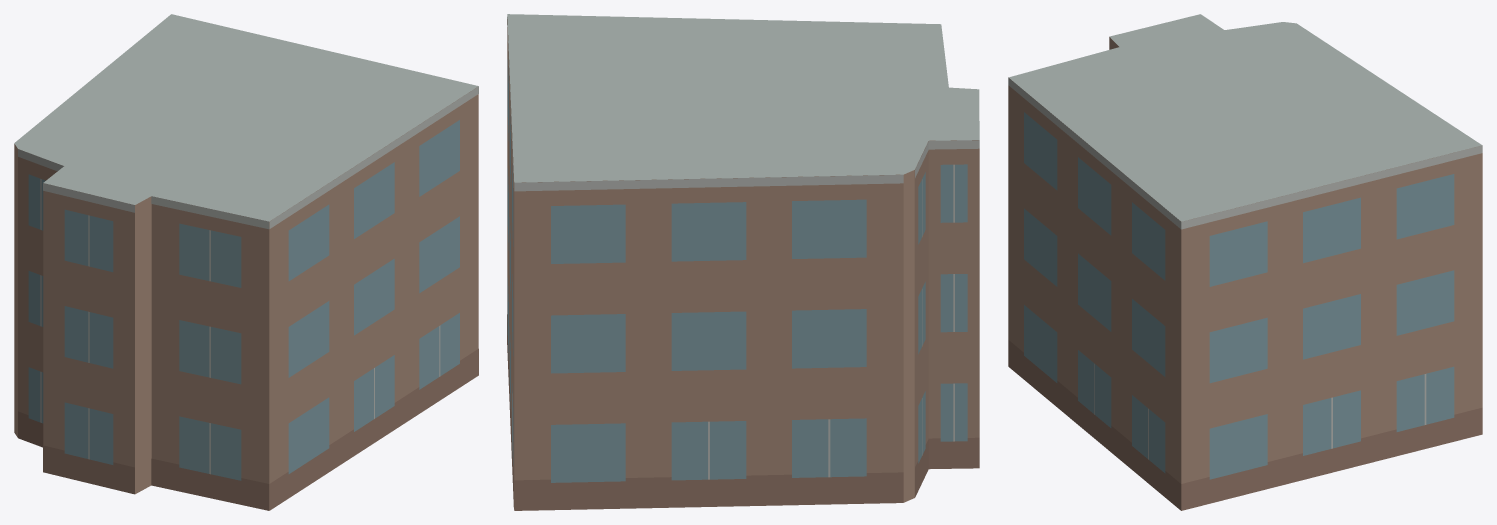
File: survey-upis-32980421.glb
3 views of the same model, side by side, from view 1: azimuth 30°, elevation 25°; view 2: azimuth 150°, elevation 25°; view 3: azimuth 270°, elevation 25° (orthographic). The views are drawn at different scales.
Visible parts, largest first — view 1: survey-upis-32980421.tmp; view 2: survey-upis-32980421.tmp; view 3: survey-upis-32980421.tmp.
Part boxes in pixels (x1,y1,x2,y2): survey-upis-32980421.tmp: (14,14,478,510); survey-upis-32980421.tmp: (507,14,979,510); survey-upis-32980421.tmp: (1008,14,1482,510).
Size of the model in its own units: 14.03 by 9.1 by 13.53.
